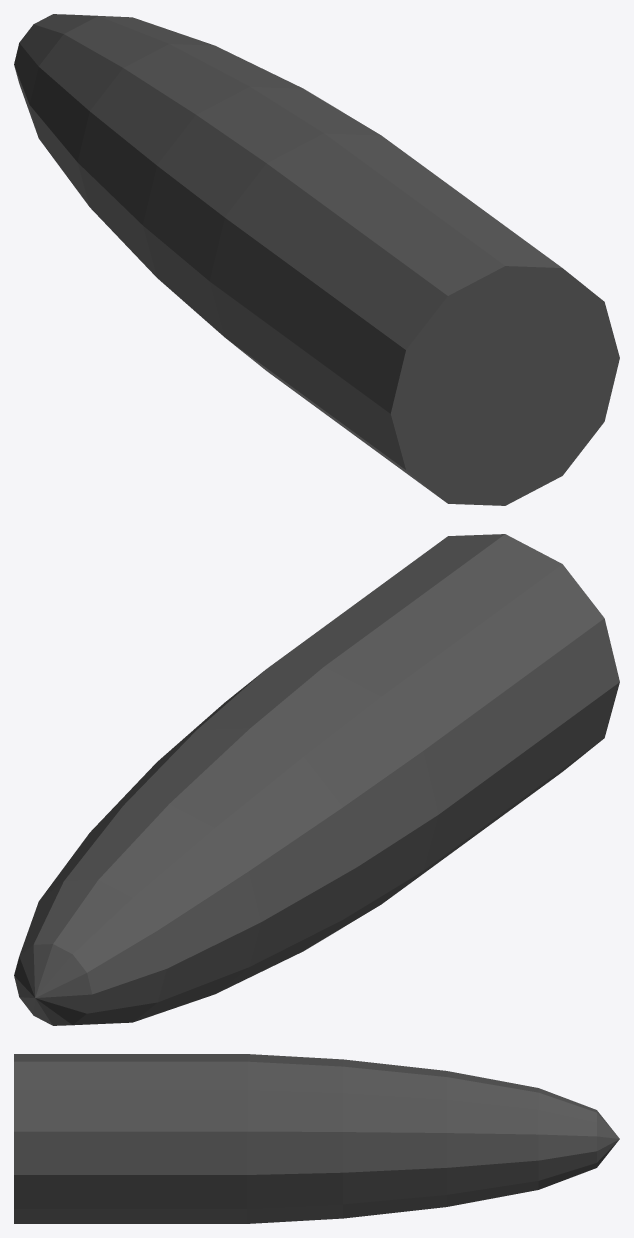
Rendered from Bullet.fbx.
3 views of the same model, one above another, from view 1: azimuth 30°, elevation 25°; view 2: azimuth 150°, elevation 25°; view 3: azimuth 270°, elevation 25° (orthographic). The views are drawn at different scales.
Parts seen in each view (by area): view 1: Projectile; view 2: Projectile; view 3: Projectile.
Boxes of the visible parts, x1,y1,x2,y2 form: Projectile: (14, 14, 619, 505); Projectile: (14, 534, 619, 1025); Projectile: (14, 1054, 619, 1223).
Bounding box in the file's own units: 0.0203 × 0.0203 × 0.0721.
